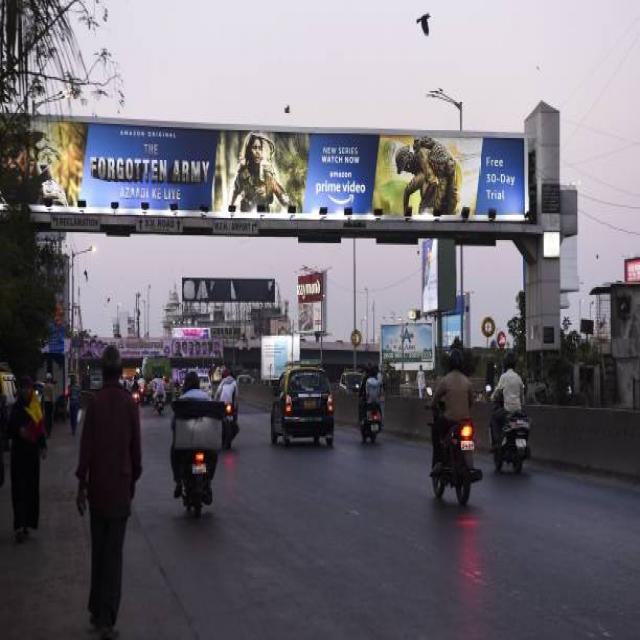Werbetafel frei: (0, 118, 531, 222), (379, 324, 435, 372), (298, 277, 328, 337)
